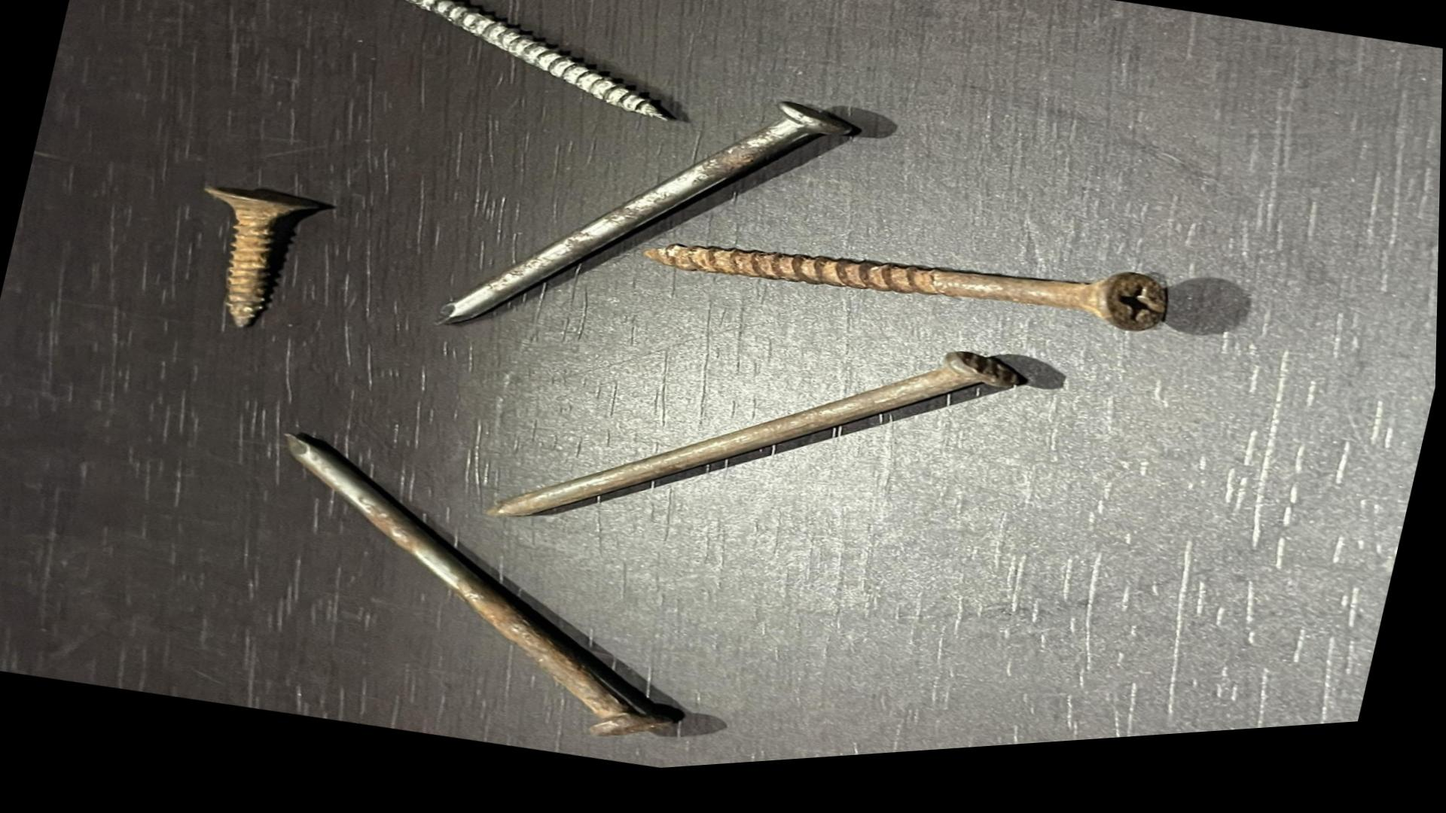nail: (199, 399, 757, 786), (467, 261, 1043, 634), (412, 40, 880, 416)
screw: (633, 175, 1195, 391), (237, 0, 719, 170), (148, 161, 341, 357)
